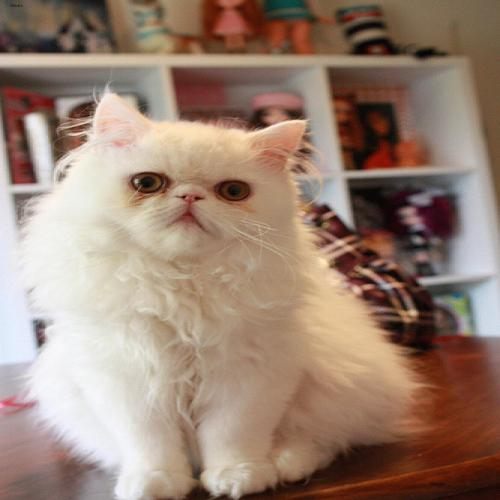persian: (48, 72, 321, 279)
